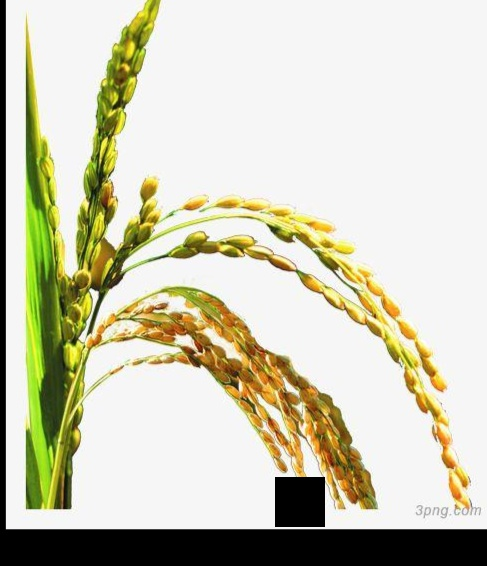rice: (125, 173, 472, 502), (96, 285, 375, 511)
